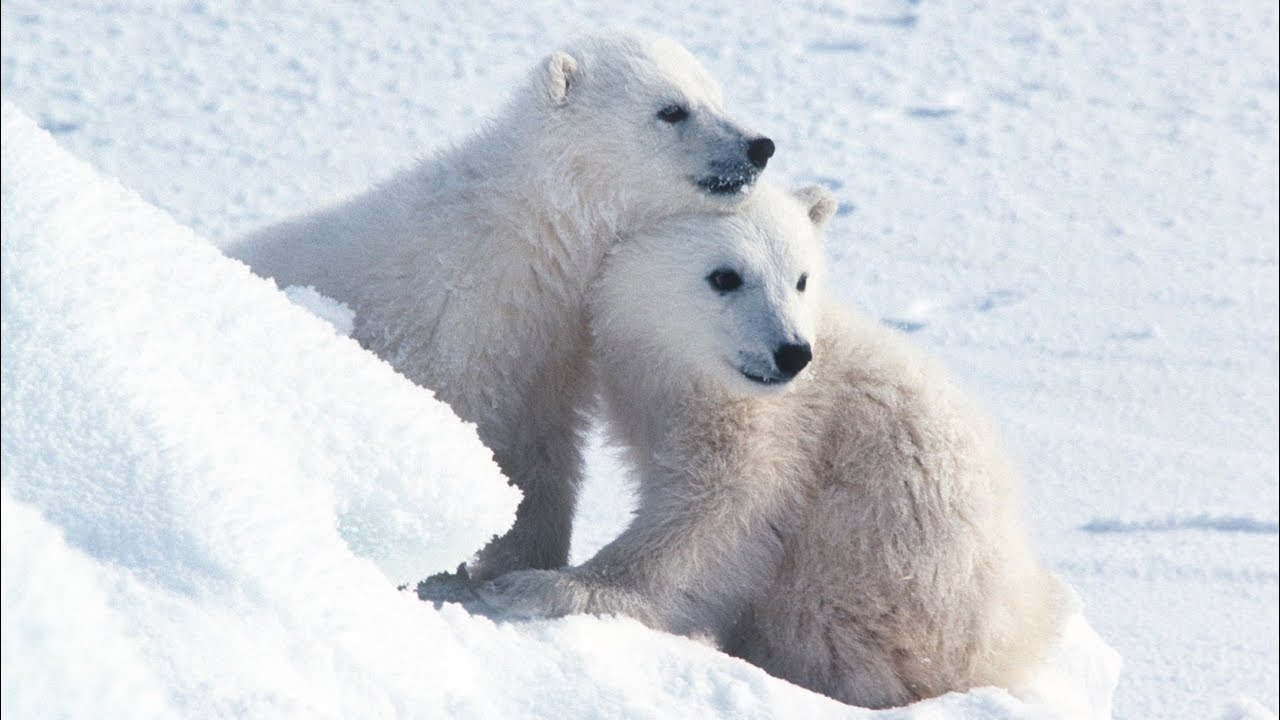PolarBear: (586, 180, 1078, 720)
